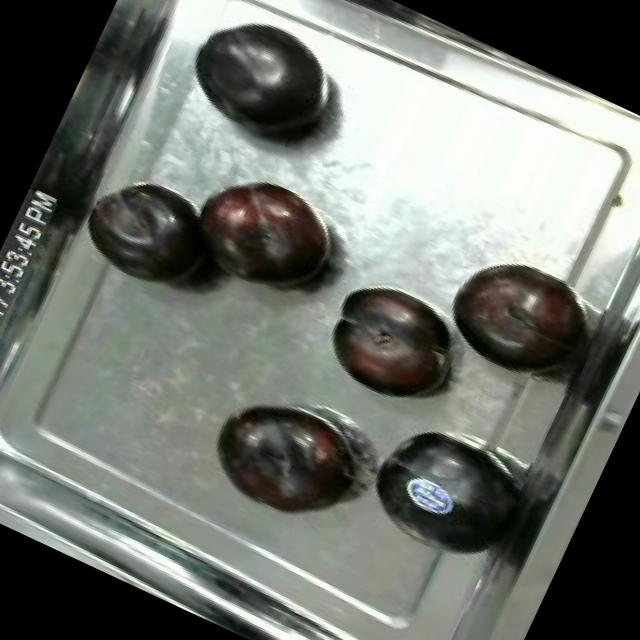Fruit: (347, 404, 540, 582), (163, 0, 353, 165), (168, 152, 354, 318), (194, 378, 376, 542), (430, 237, 600, 396), (306, 265, 476, 423), (68, 158, 232, 308)
